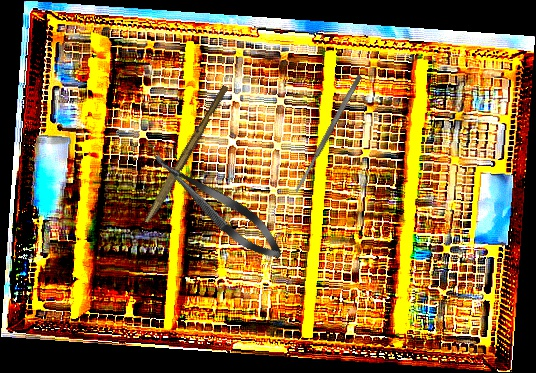Micro Scissor: (143, 140, 291, 270)
Scalpel Handle: (143, 83, 230, 226)
Spatula Surgical: (292, 74, 364, 193)
